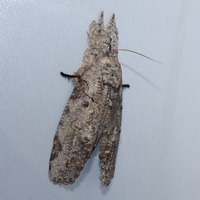insect: (49, 12, 127, 185)
